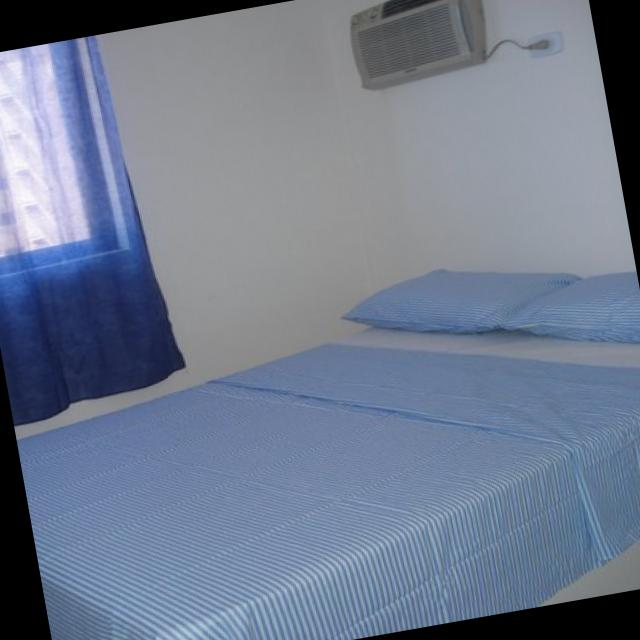2001: (0, 45, 162, 275)
air conditioner: (346, 0, 483, 91)
bed -occluded-: (23, 270, 640, 640)
blanket: (213, 342, 640, 444)
curtain crop: (0, 43, 179, 427)
outlet: (524, 31, 561, 55)
pillow occluded: (342, 271, 577, 333)
wall clock: (129, 23, 379, 332)
